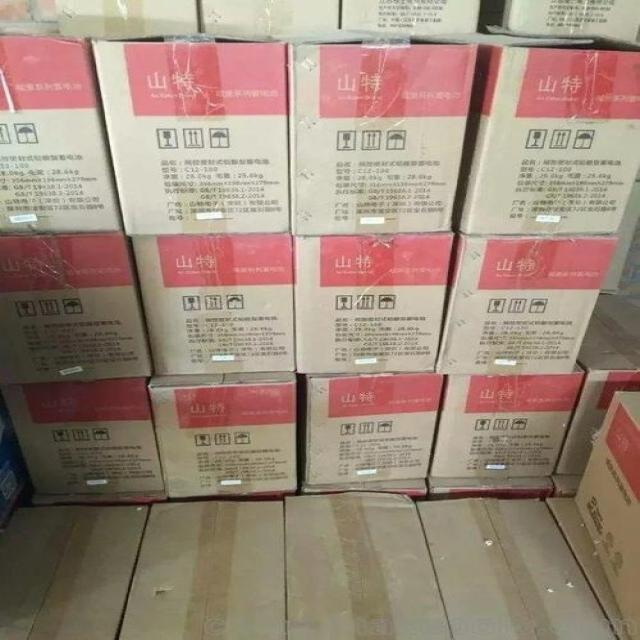box: (90, 40, 292, 234), (289, 43, 479, 234), (453, 43, 639, 234), (416, 497, 618, 639), (438, 231, 617, 372), (127, 232, 296, 376), (287, 493, 453, 639), (1, 35, 122, 234), (118, 501, 289, 639), (0, 232, 154, 383), (294, 233, 453, 373), (0, 503, 152, 639), (0, 377, 166, 495), (151, 373, 298, 498), (431, 361, 585, 478), (295, 371, 445, 486), (574, 390, 639, 639), (556, 295, 639, 474), (200, 0, 481, 38), (59, 0, 201, 37)
